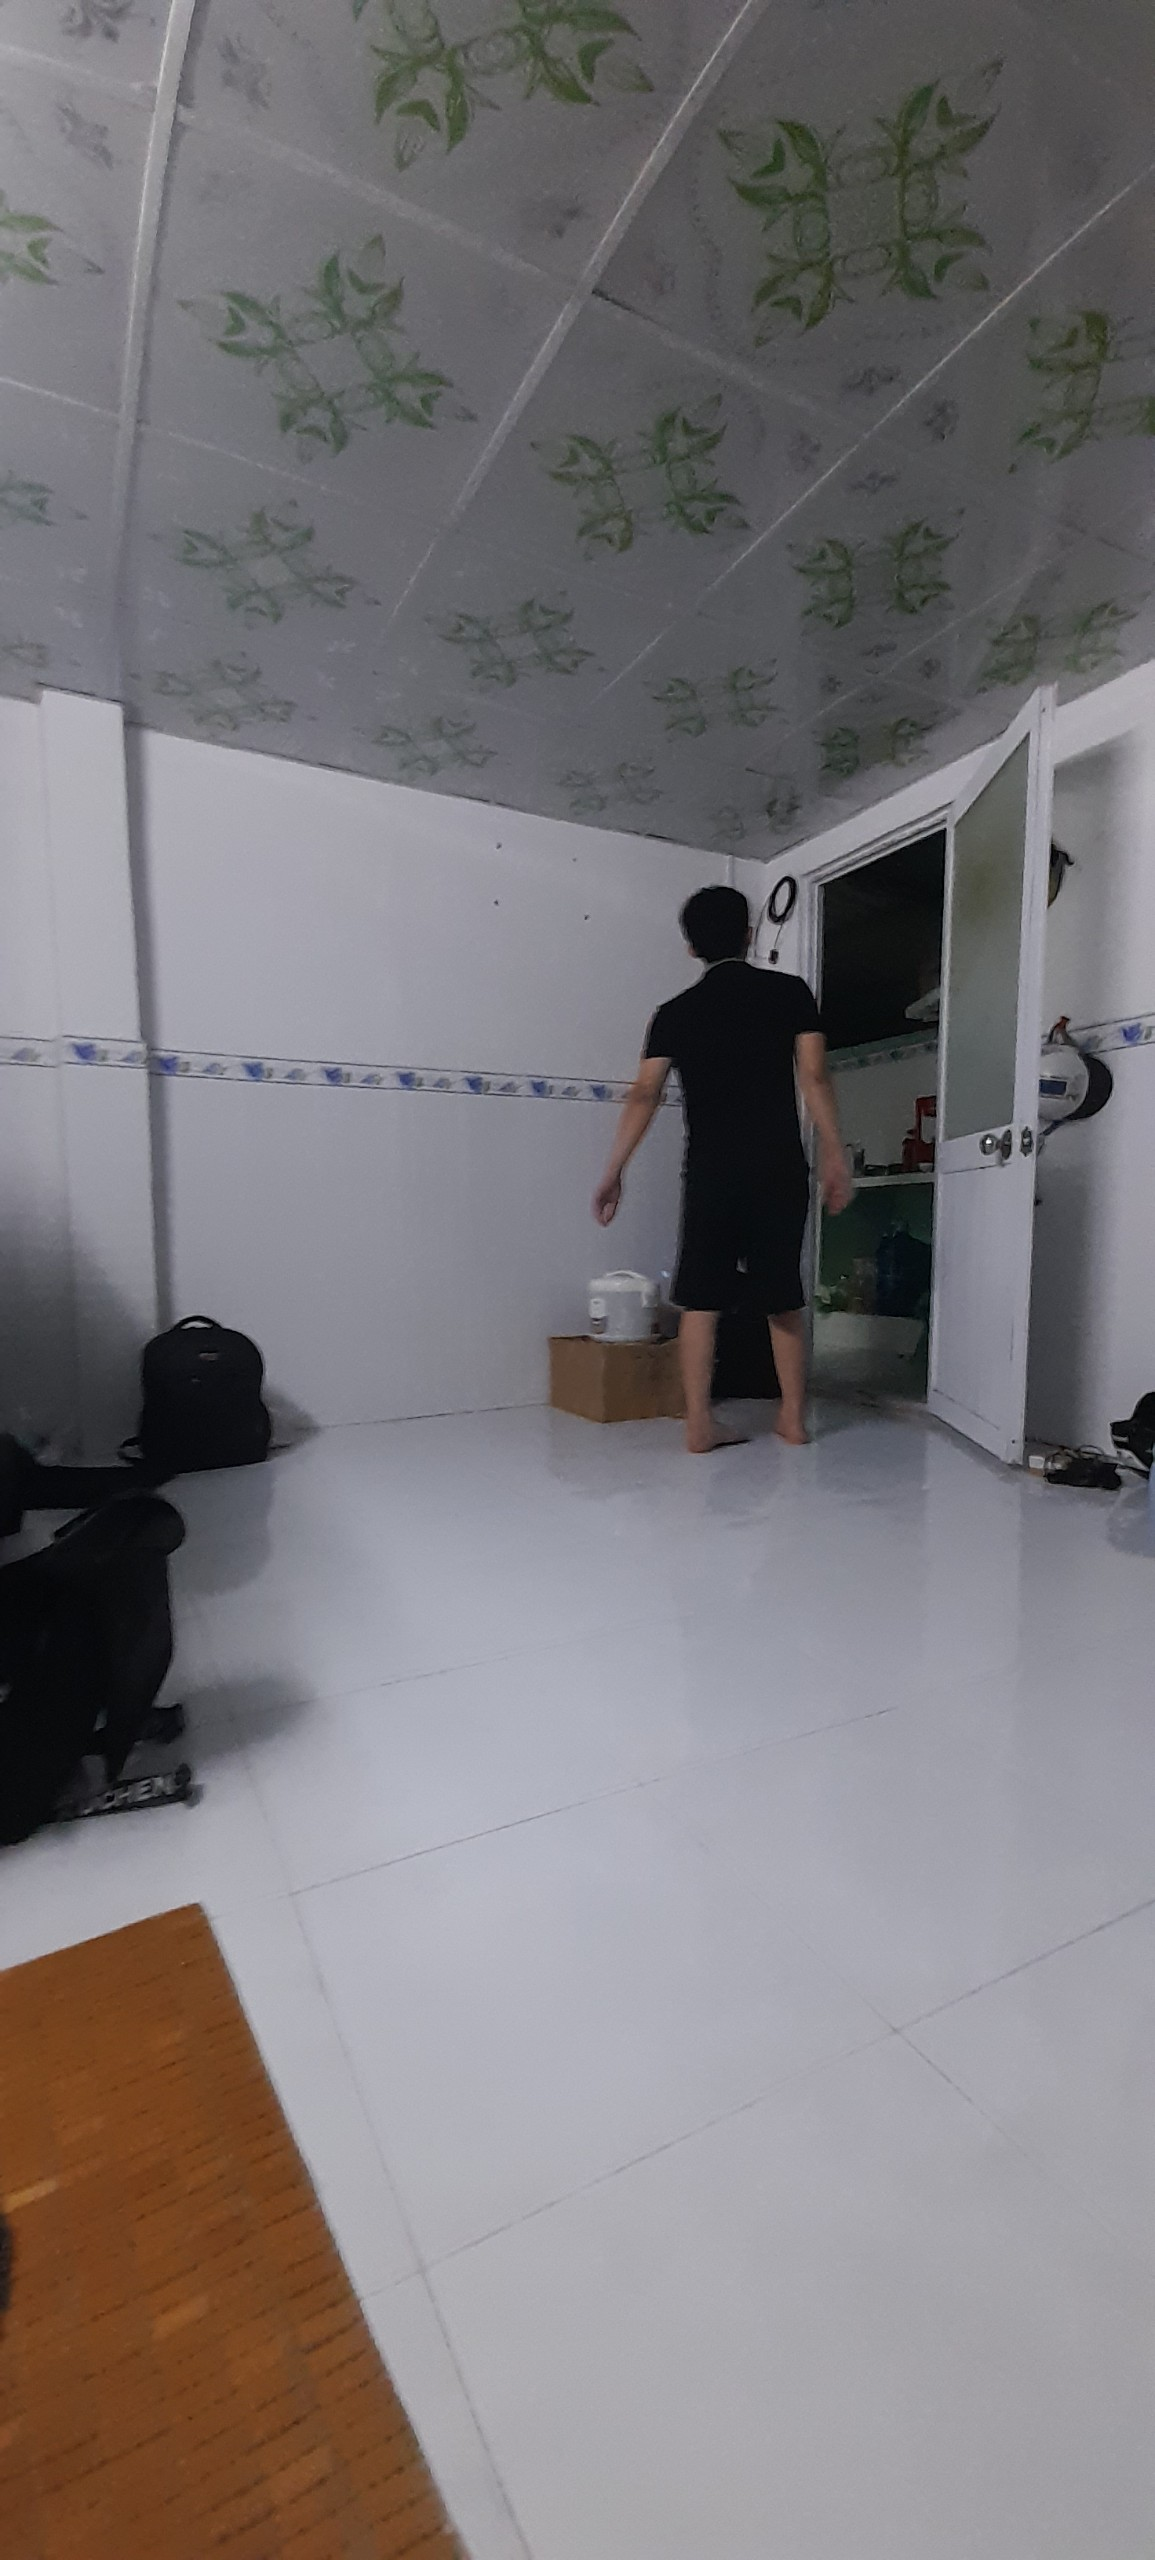person: (654, 890, 838, 1452)
